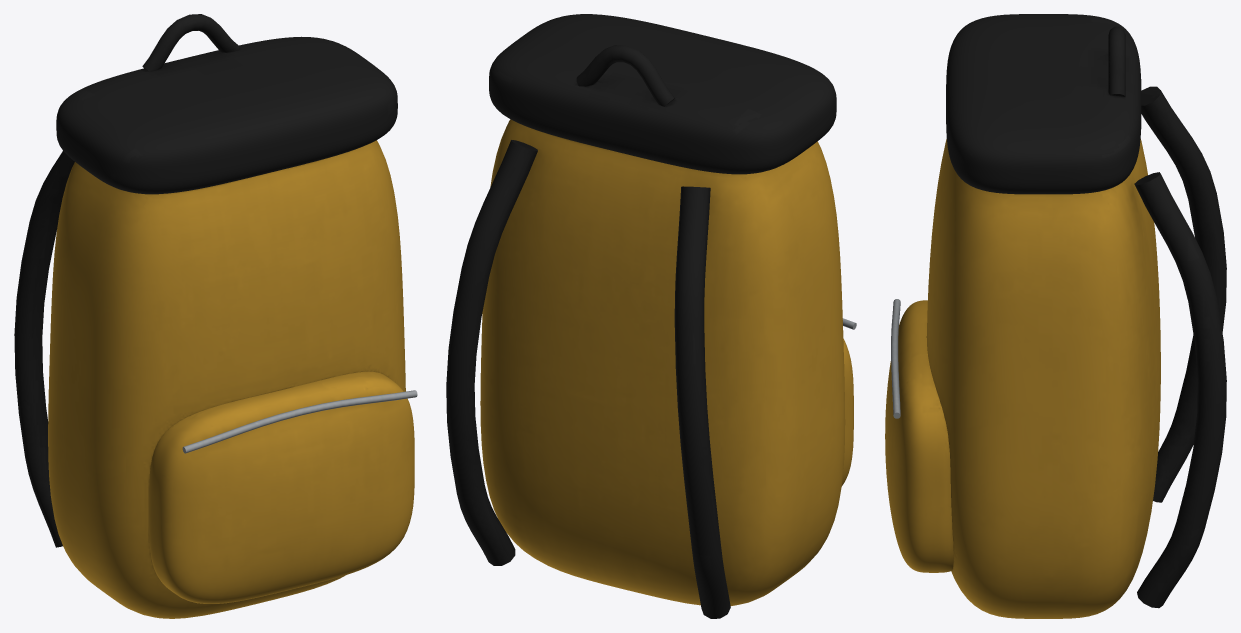
File: mustard.glb
3 views of the same model, side by side, from view 1: azimuth 30°, elevation 25°; view 2: azimuth 150°, elevation 25°; view 3: azimuth 270°, elevation 25° (orthographic).
Parts seen in each view (by area): view 1: fabric_primary, webbing, zip_metal; view 2: fabric_primary, webbing; view 3: fabric_primary, webbing, zip_metal.
Part boxes in pixels (left/top/right/bottom): fabric_primary: left=48, top=140, right=414, bottom=618; webbing: left=14, top=14, right=397, bottom=547; zip_metal: left=182, top=390, right=417, bottom=453; fabric_primary: left=480, top=119, right=853, bottom=605; webbing: left=446, top=14, right=836, bottom=618; fabric_primary: left=885, top=139, right=1160, bottom=618; webbing: left=946, top=14, right=1226, bottom=608; zip_metal: left=891, top=299, right=900, bottom=418.
Bounding box in the file's own units: 0.2908 × 0.4966 × 0.2796.
Materials: 3 (3 with a texture image).
